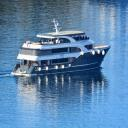cruises: (11, 18, 112, 79)
